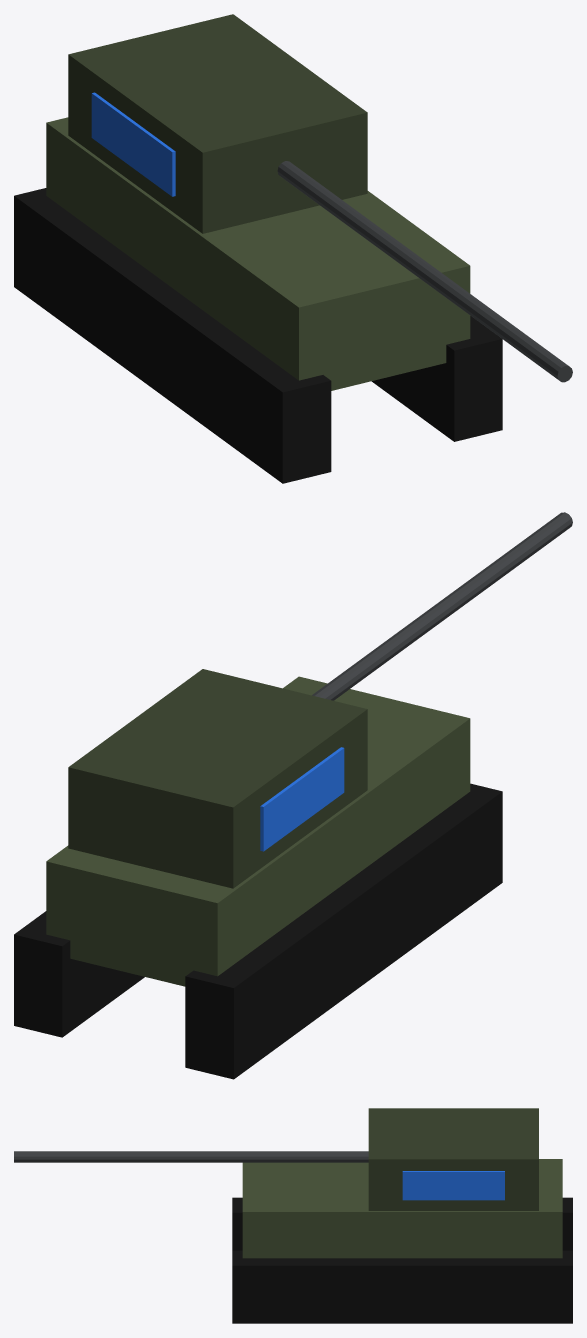
Rendered from kp_howitzer.glb.
The picture shows the model from 3 angles, top to bottom: view 1: azimuth 30°, elevation 25°; view 2: azimuth 150°, elevation 25°; view 3: azimuth 270°, elevation 25°; orthographic projection. The views are drawn at different scales.
Parts seen in each view (by area): view 1: hull, turret, track_l, track_r, barrel, team_panel_l; view 2: hull, turret, track_l, track_r, barrel, team_panel_l; view 3: hull, track_r, turret, barrel, team_panel_r, track_l.
Boxes of the visible parts, x1,y1,x2,y2 form: hull: (46,117,470,390); turret: (68,14,367,233); track_l: (14,188,331,483); track_r: (372,316,502,441); barrel: (277,161,572,382); team_panel_l: (91,92,175,196); hull: (46,676,470,986); turret: (68,669,367,888); track_l: (185,783,502,1079); track_r: (14,911,144,1037); barrel: (312,512,572,700); team_panel_l: (260,747,344,851); hull: (242,1159,562,1258); track_r: (232,1250,572,1323); turret: (368,1108,538,1210); barrel: (14,1151,368,1162); team_panel_r: (402,1171,504,1200); track_l: (232,1197,572,1250).
Size of the model in its own units: 3.4 by 3.63 by 11.82.
